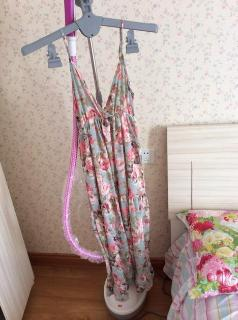sling: (59, 19, 154, 302)
